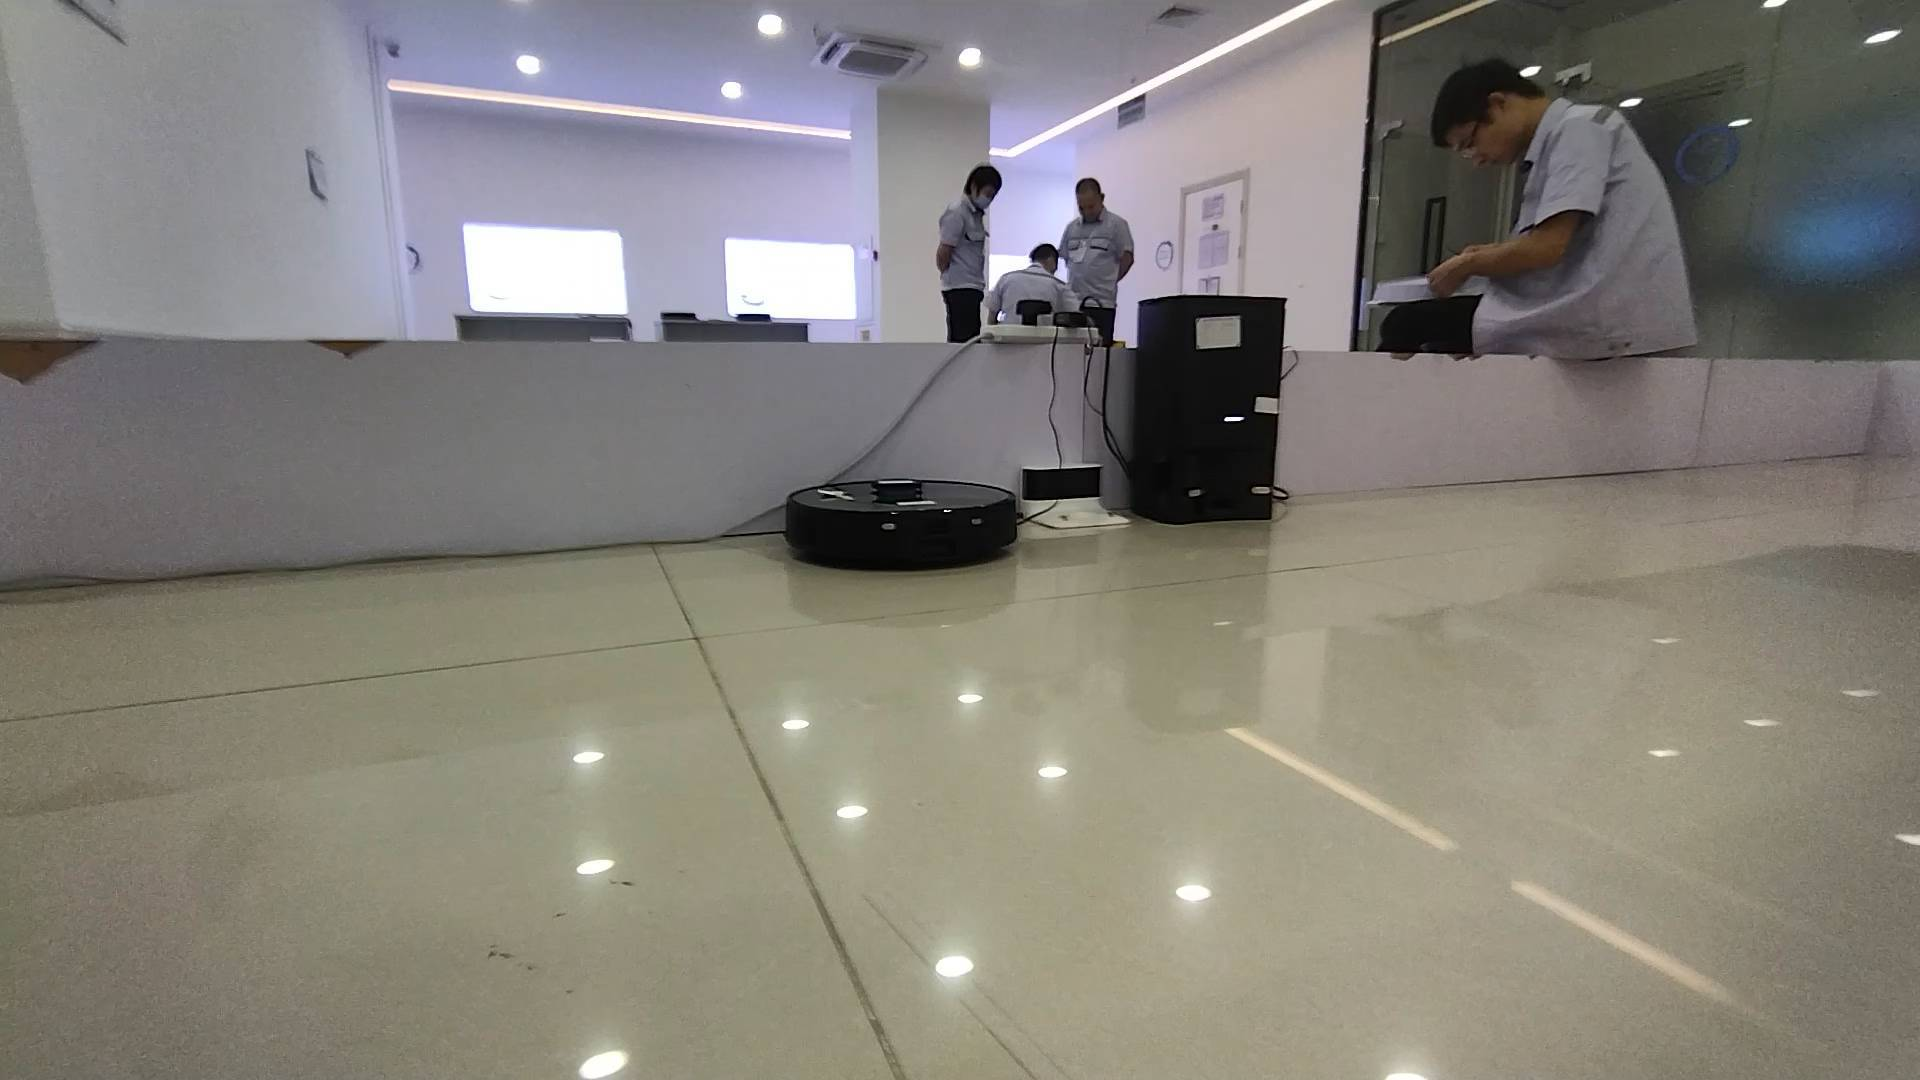dust collecting barrel: (1135, 295, 1284, 525)
recharge seat: (1015, 463, 1130, 527)
